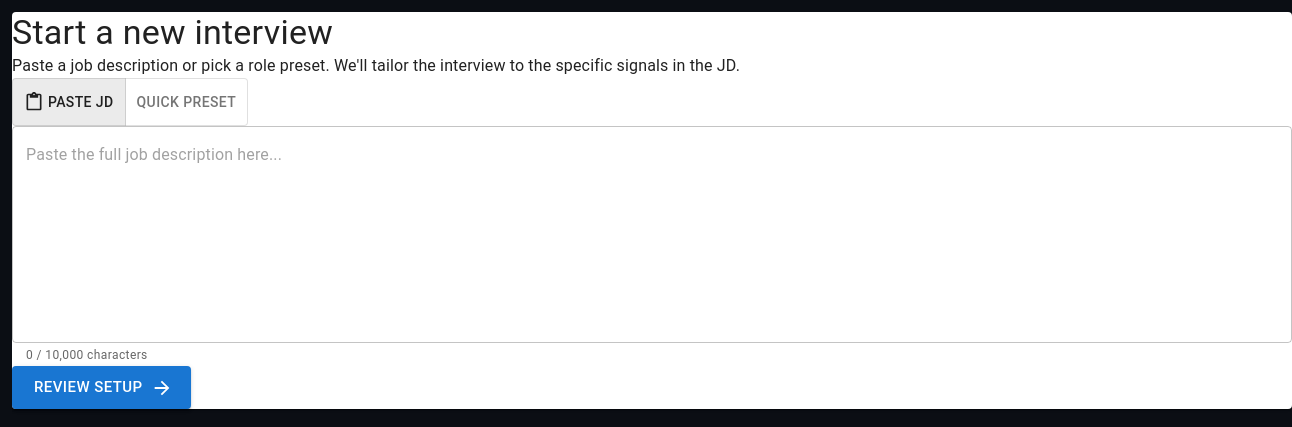
JdInput › shows error when no preset is selected and submit is clicked
Click the button with aria-label "Select role preset" at (186, 102), box [124,78,248,126]
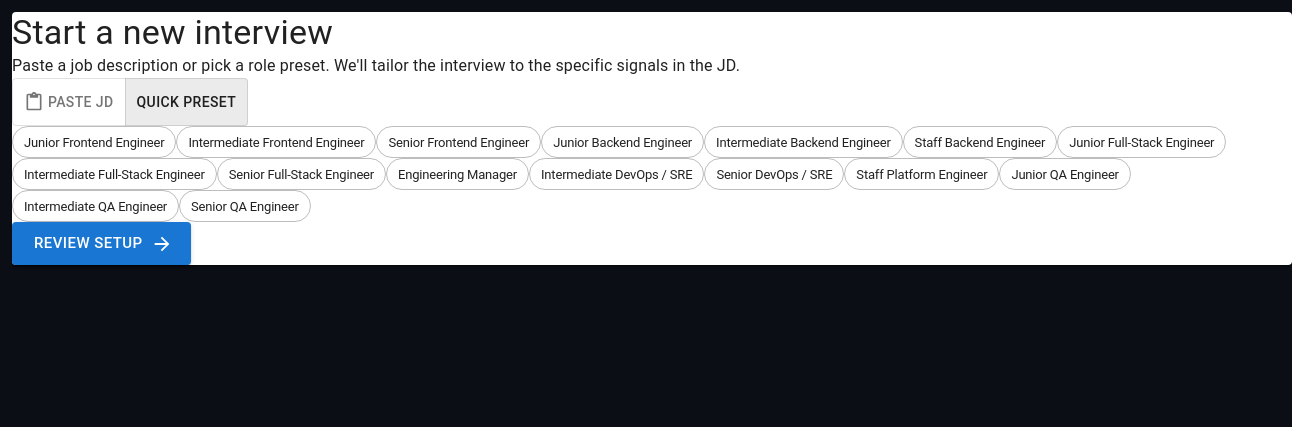
Click the button "Review setup" at (101, 244), box [12,222,190,265]
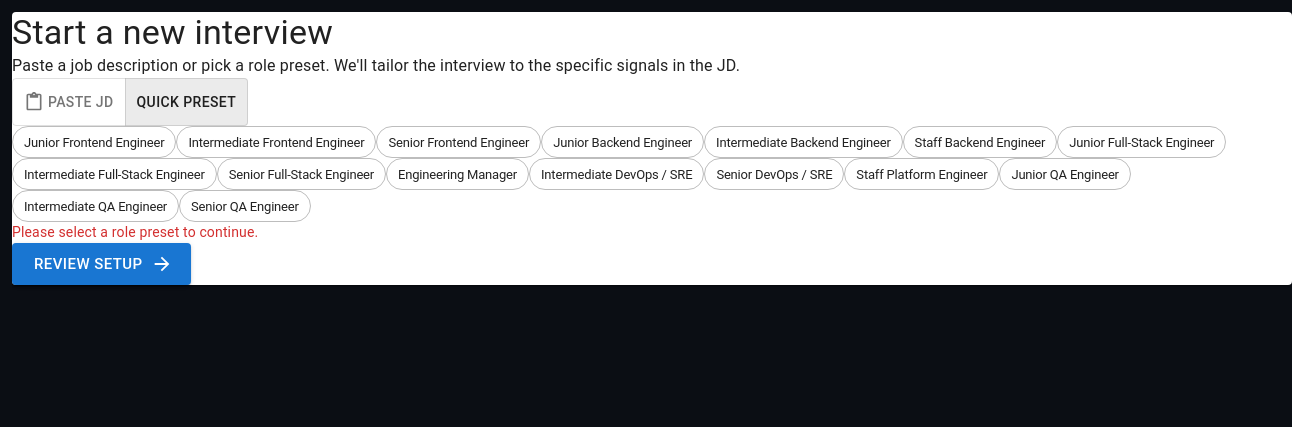
Expected: the text "Please select a role preset to continue." is shown, [12,224,258,240]
